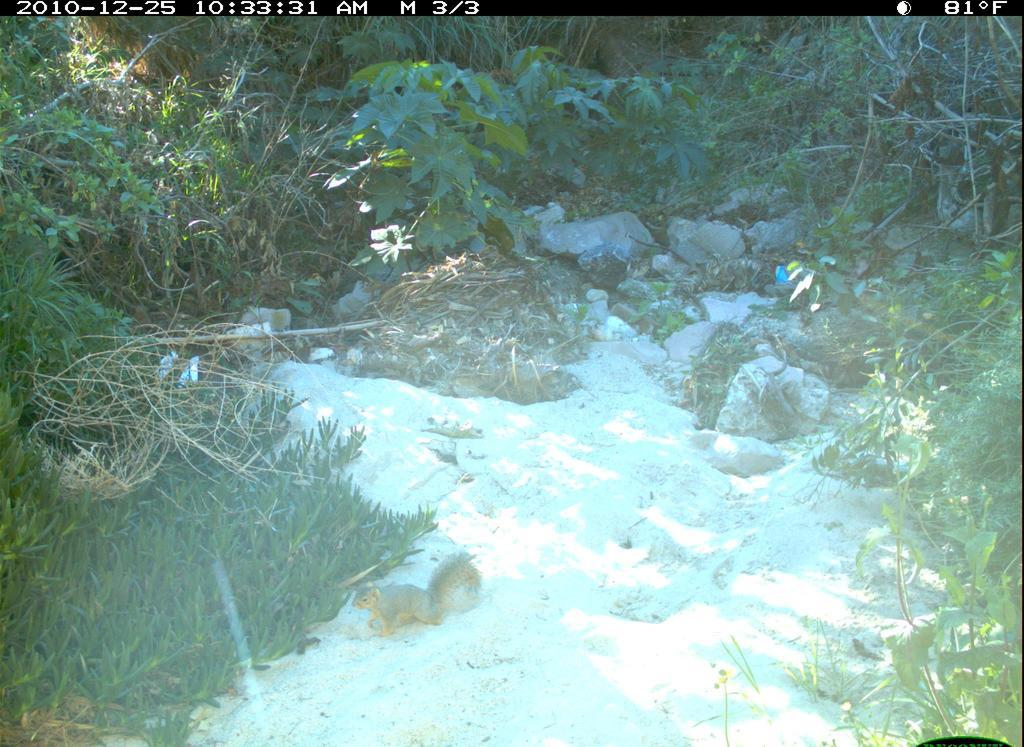squirrel: (346, 548, 493, 642)
